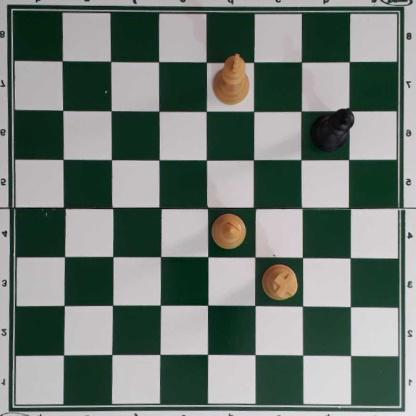black-king: (309, 107, 355, 153)
white-bishop: (211, 210, 247, 252)
white-king: (212, 53, 251, 107)
white-rook: (261, 264, 299, 300)
